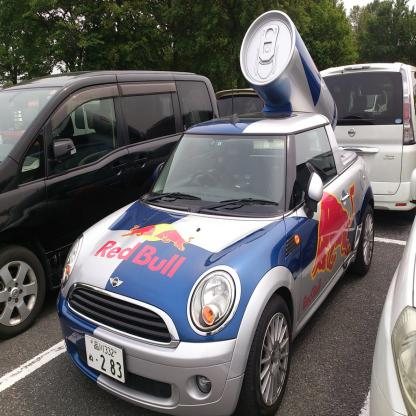Car: (56, 109, 375, 415), (0, 69, 220, 331)
